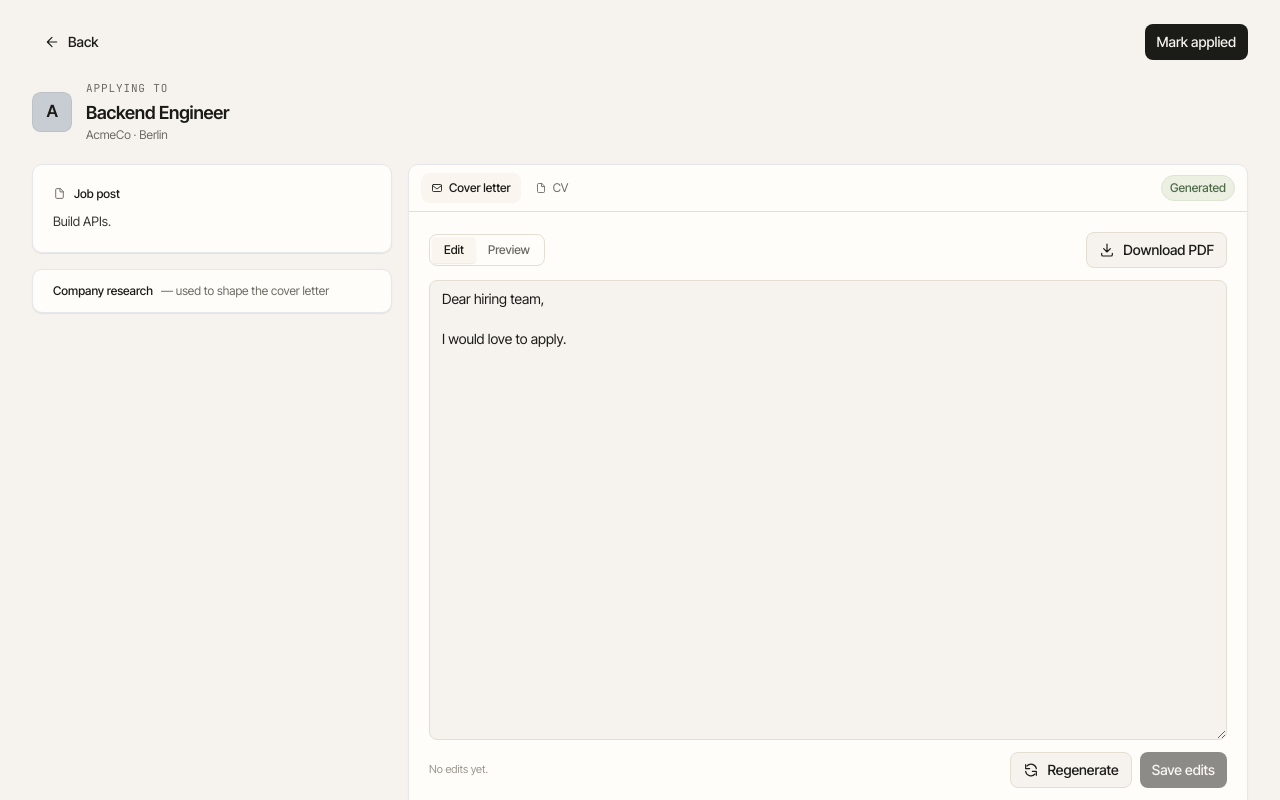
Test case: GeneratePage (generate mode) › produces cover letter, CV tailoring, and company research
CV tailoring lives behind its own tab.
Click the button "CV".
click(552, 188)  # box [525, 172, 578, 202]
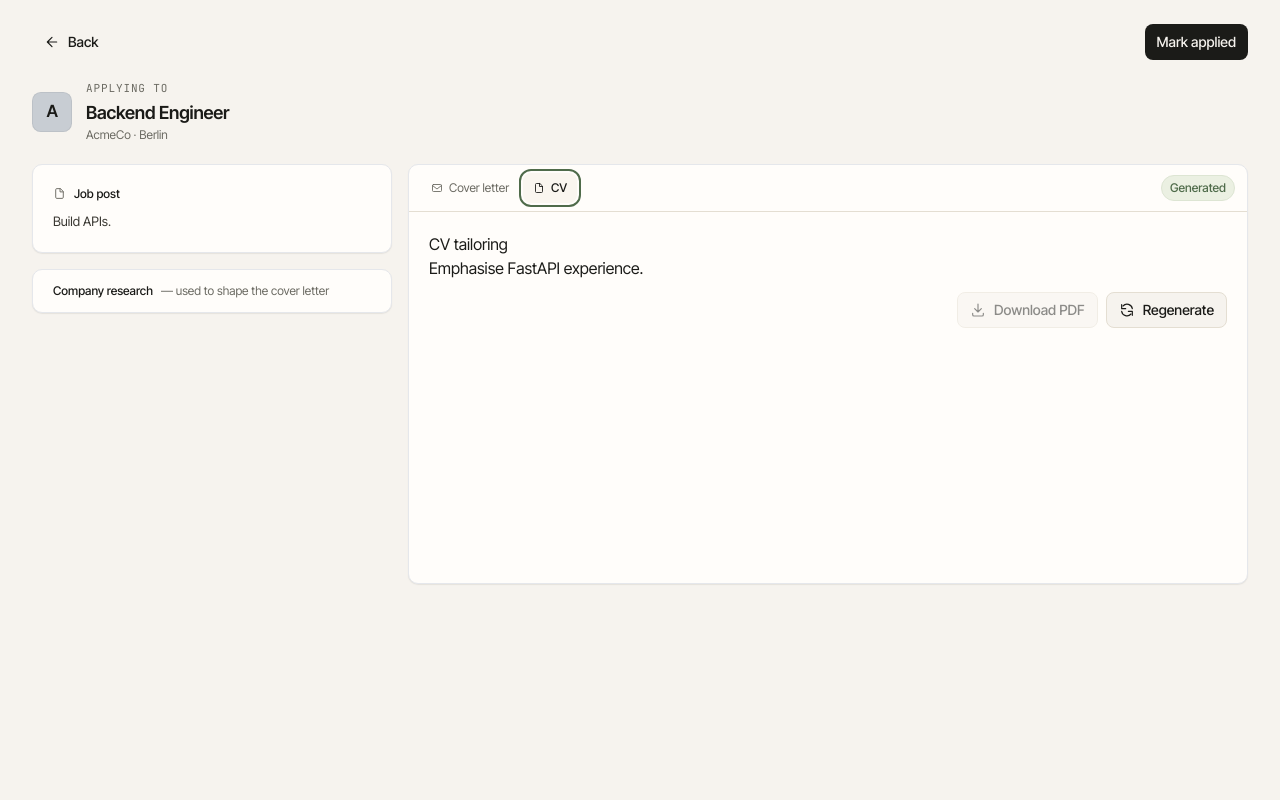
Expected: the list item "Emphasise FastAPI experience." is shown, [429, 258, 643, 278]
